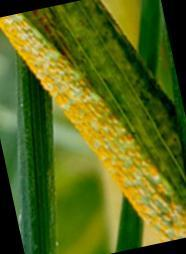Wheat: (0, 12, 186, 239)
